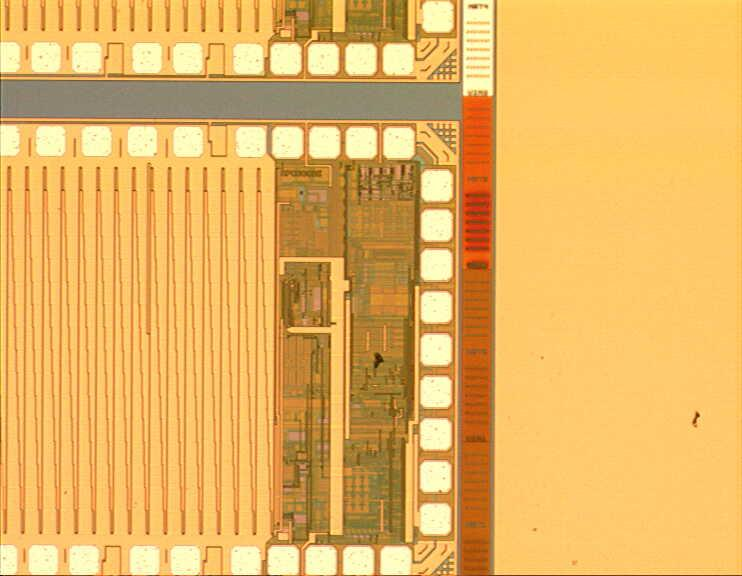PO CONTAMINATION: (406, 354, 703, 573)
